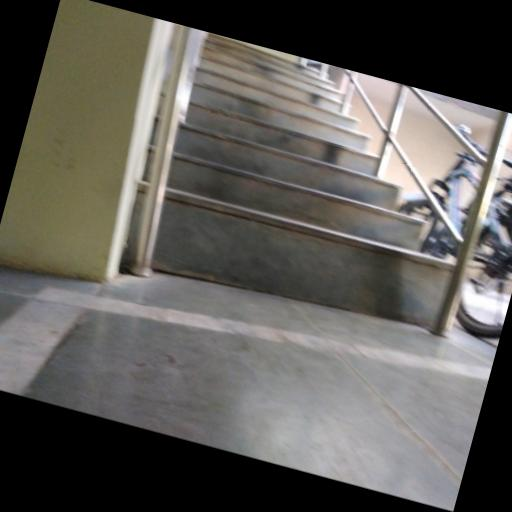stairs: (152, 35, 450, 325)
